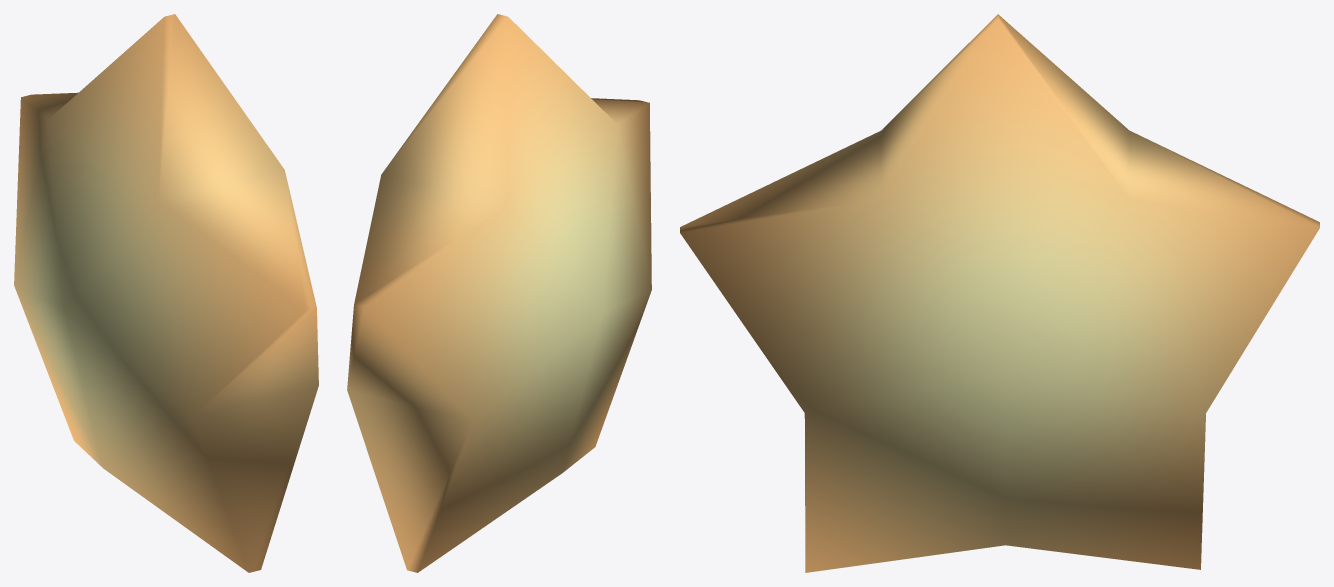
The model's file is STAR_dobber.fbx.
3 renders of one model, left to right at view 1: azimuth 30°, elevation 25°; view 2: azimuth 150°, elevation 25°; view 3: azimuth 270°, elevation 25°, orthographic. The views are drawn at different scales.
Visible parts, largest first — view 1: DOBBER; view 2: DOBBER; view 3: DOBBER.
Part boxes in pixels (left/top/right/bottom): DOBBER: left=14, top=14, right=318, bottom=572; DOBBER: left=347, top=14, right=651, bottom=572; DOBBER: left=680, top=14, right=1319, bottom=572.
Bounding box in the file's own units: 33.34 × 76.38 × 80.09.
1 material, 1 textured.
